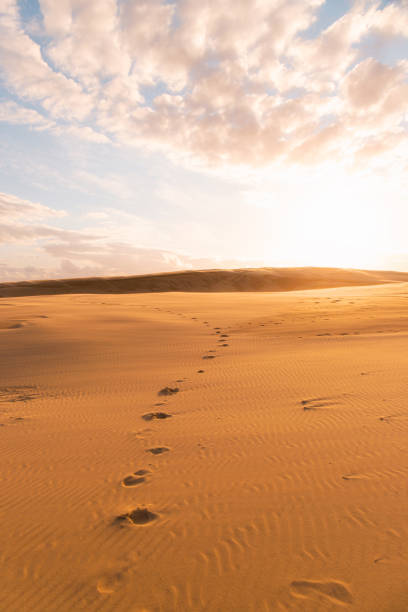human_footprint: (291, 580, 352, 603), (115, 507, 158, 524), (121, 469, 149, 487), (300, 397, 338, 410), (142, 412, 171, 420), (158, 386, 179, 395), (146, 446, 169, 454), (202, 355, 214, 358), (197, 369, 204, 373), (220, 343, 228, 346)
